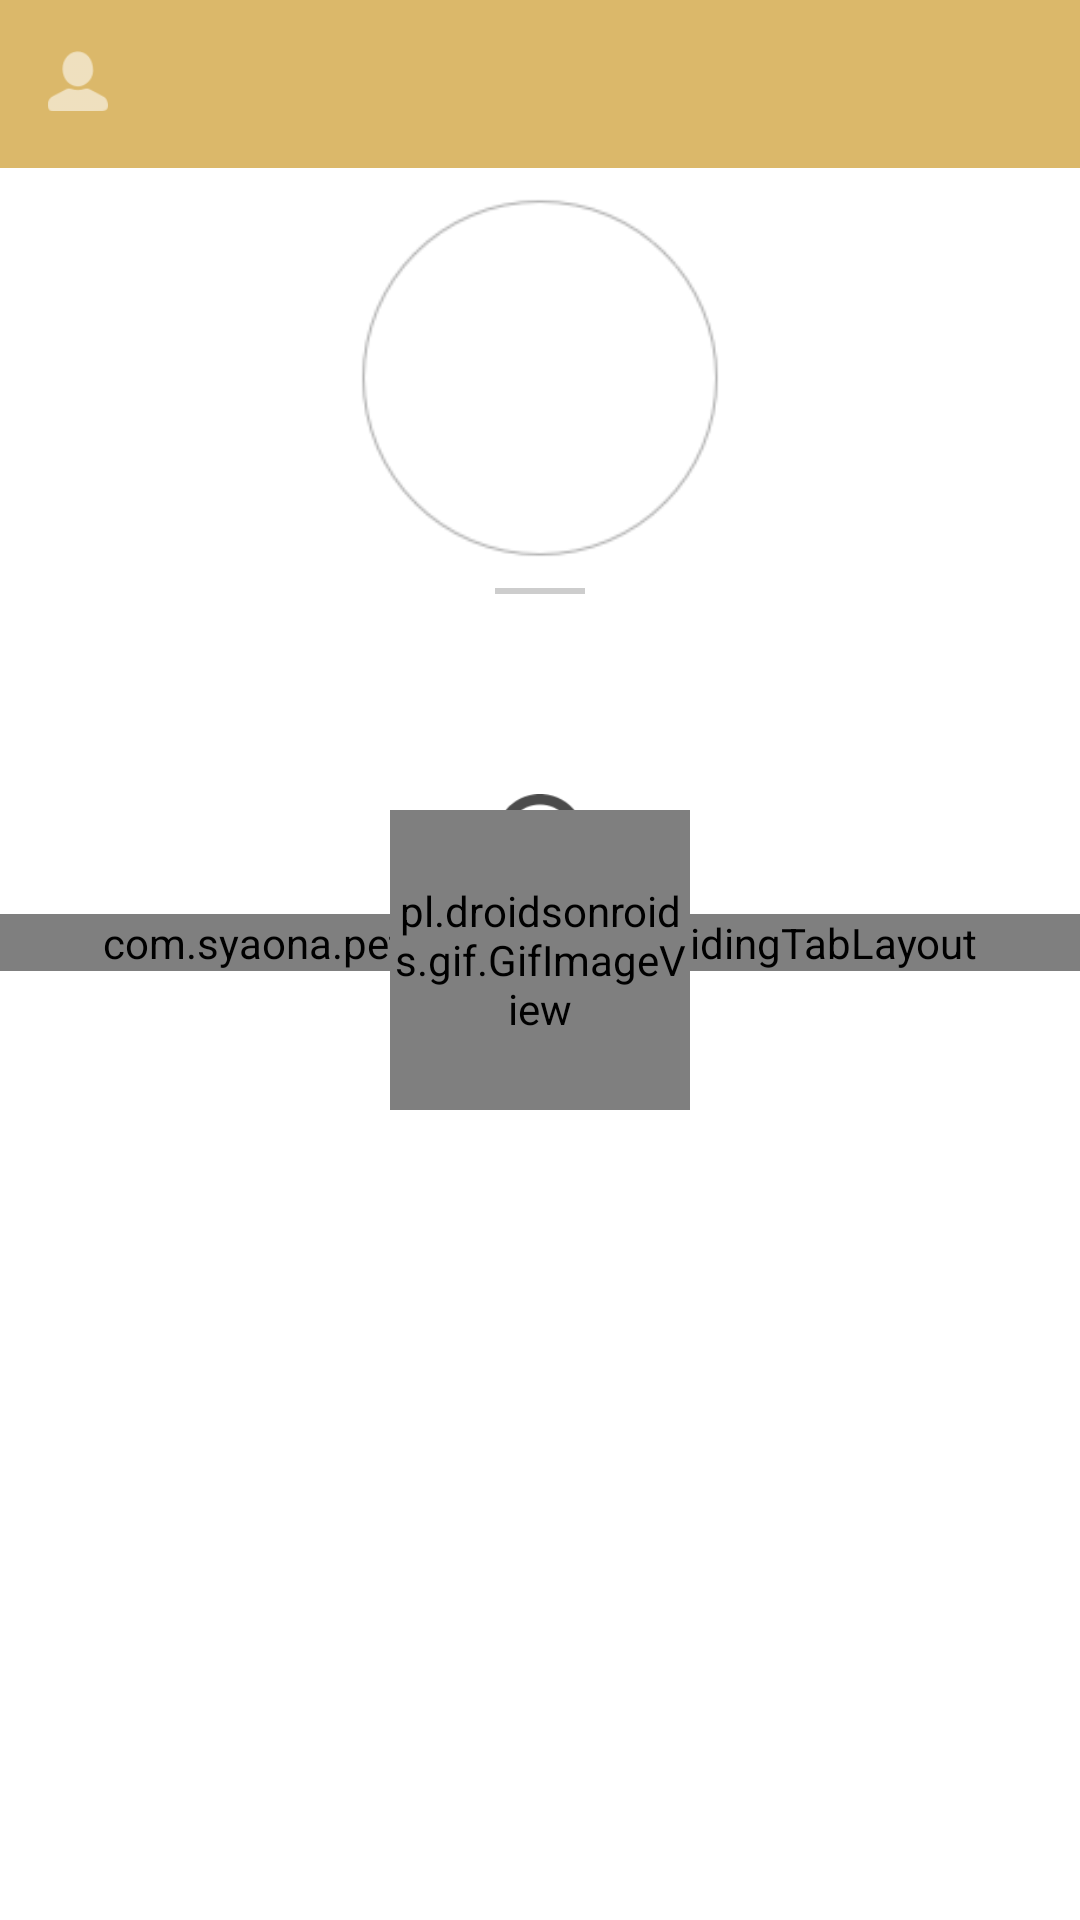

Screen size 1080×1920. Icon name, then its box in pixels as bbox=(x1, y1, x2, y2):
profile: bbox=(48, 51, 108, 111)
